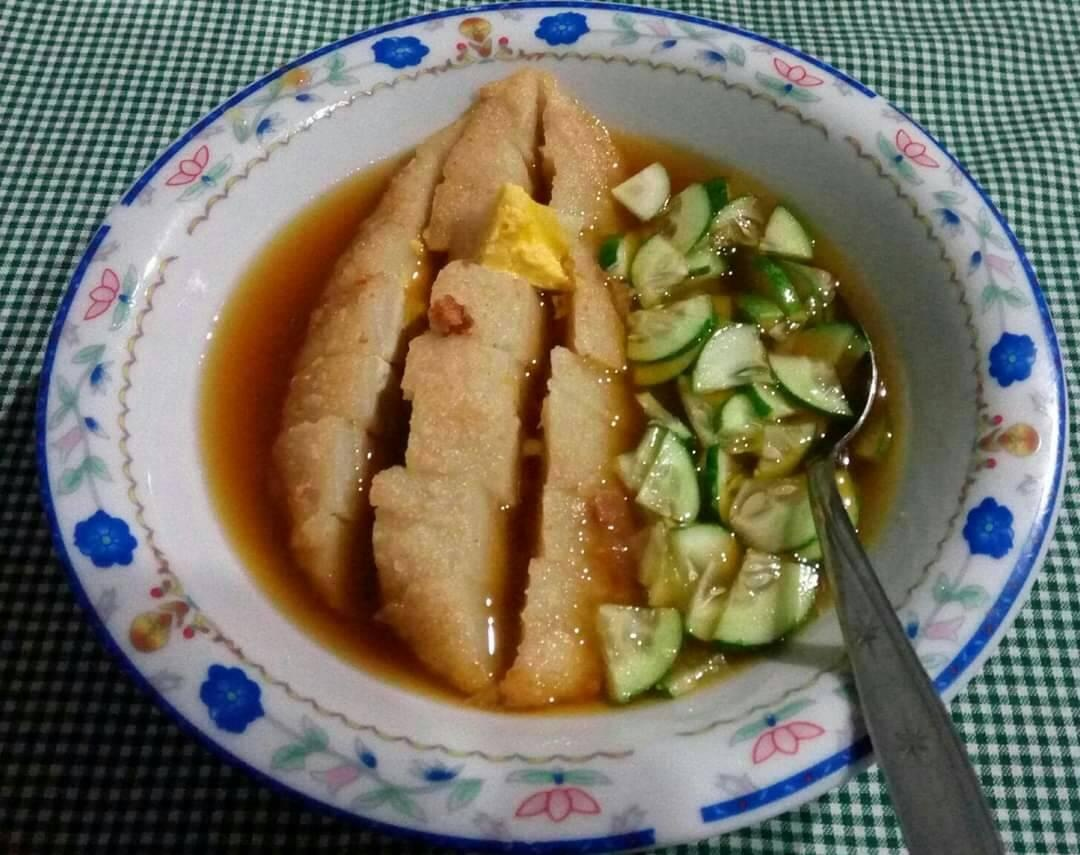pempek: (271, 54, 621, 709)
